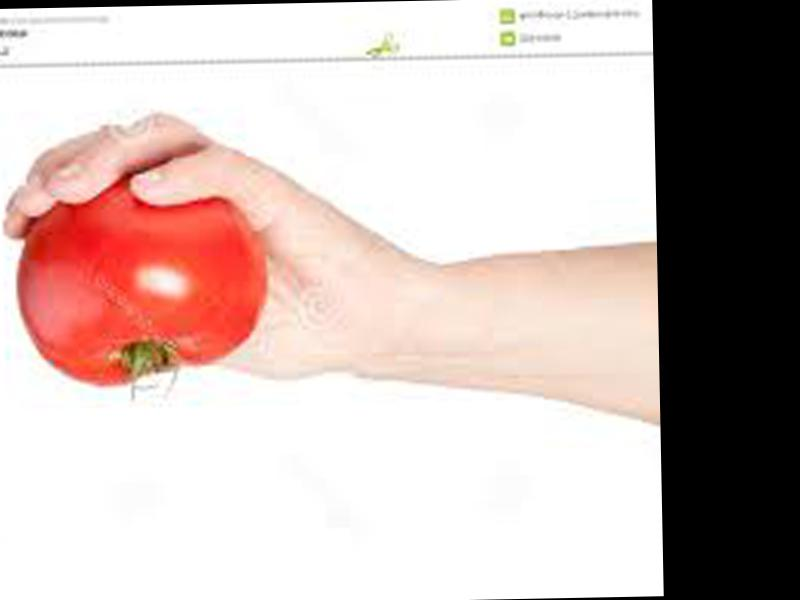Tomato: (14, 174, 272, 390)
